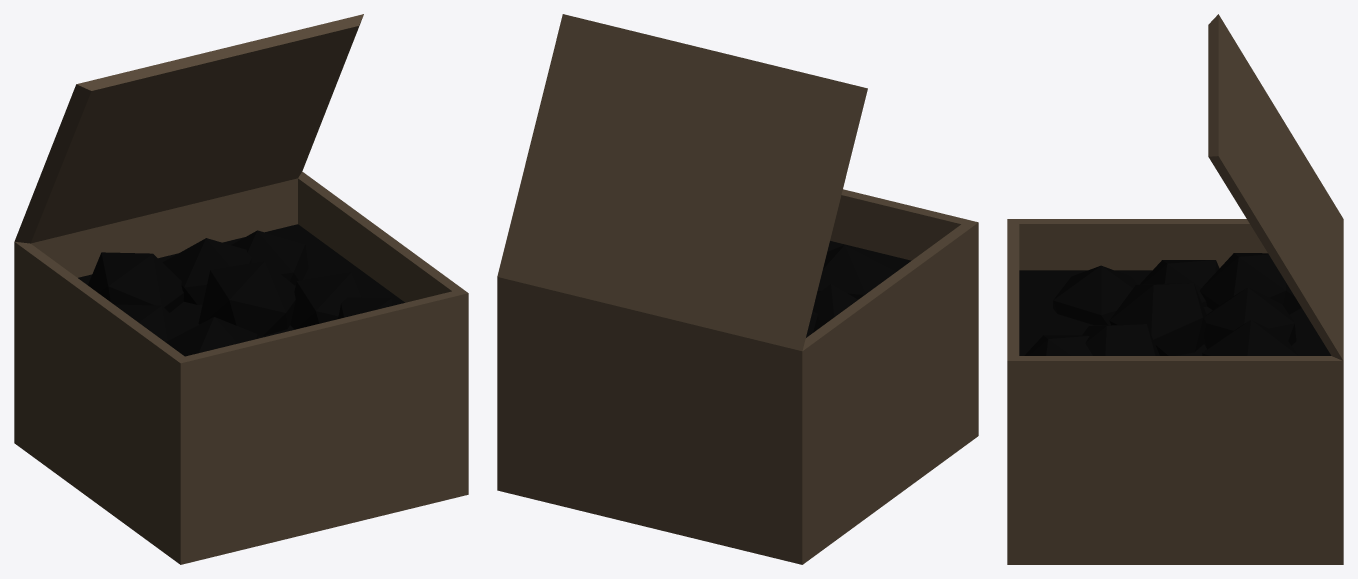
File: ammo.fbx
3 renders of one model, left to right at view 1: azimuth 30°, elevation 25°; view 2: azimuth 150°, elevation 25°; view 3: azimuth 270°, elevation 25°, orthographic. The views are drawn at different scales.
Visible parts, largest first — view 1: Cube; view 2: Cube; view 3: Cube.
Part boxes in pixels (left/top/right/bottom): Cube: left=14, top=14, right=468, bottom=564; Cube: left=497, top=14, right=978, bottom=564; Cube: left=1007, top=14, right=1343, bottom=564.
Bounding box in the file's own units: 416 × 559 × 416.
